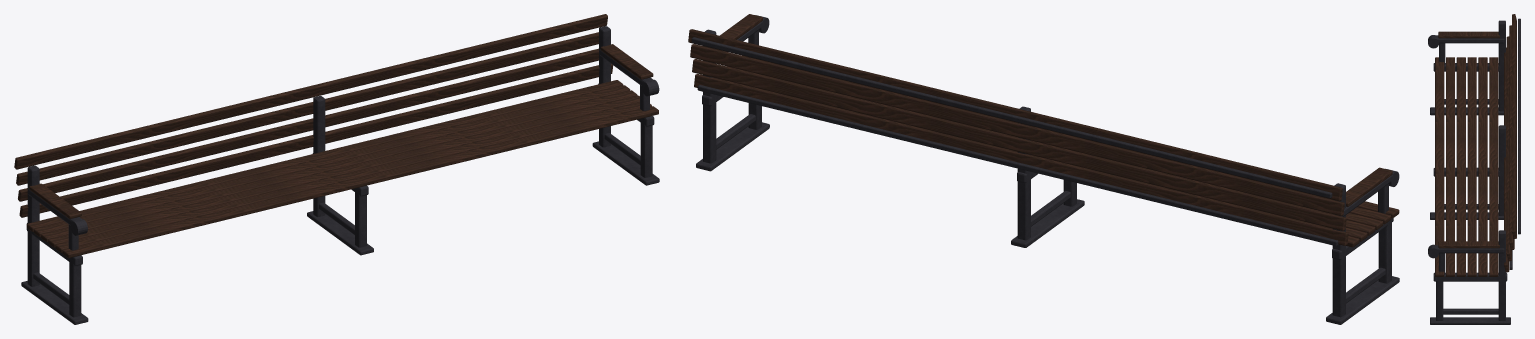
File: wait_bench_6080.glb
The picture shows the model from 3 angles, left to right: view 1: azimuth 30°, elevation 25°; view 2: azimuth 150°, elevation 25°; view 3: azimuth 270°, elevation 25°; orthographic projection. The views are drawn at different scales.
Parts seen in each view (by area): view 1: wait_bench_6080; view 2: wait_bench_6080; view 3: wait_bench_6080.
Boxes of the visible parts, <box> form: wait_bench_6080: <box>14,14,659,324</box>; wait_bench_6080: <box>688,14,1399,324</box>; wait_bench_6080: <box>1428,14,1520,324</box>.
Bounding box in the file's own units: 4.18 × 0.8586 × 0.7561.
Materials: 2 (2 with a texture image).
